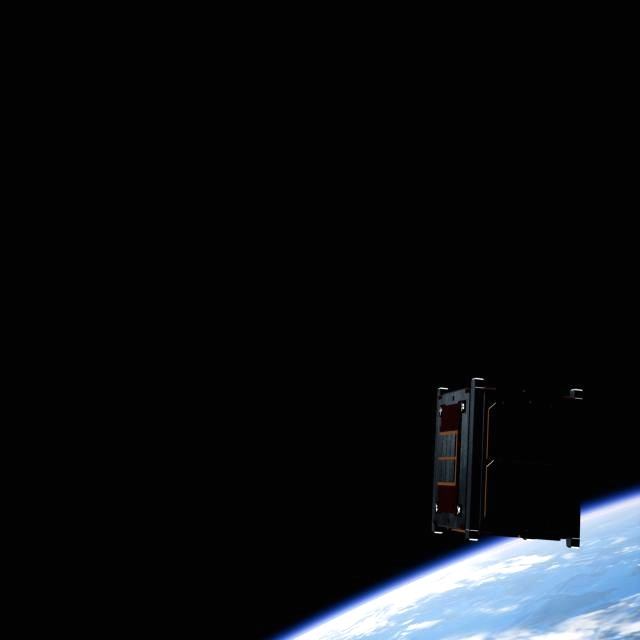medium_debris: (431, 372, 593, 548)
